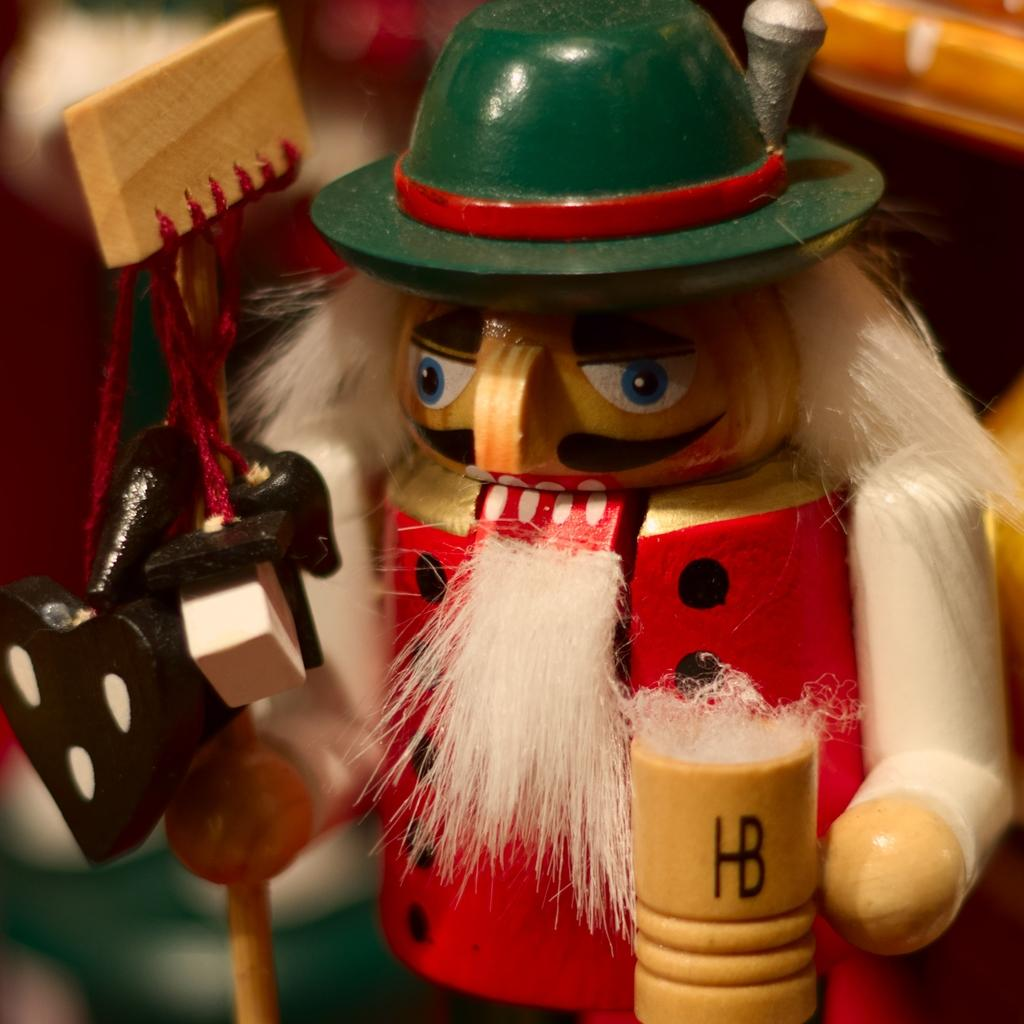Hat: (308, 0, 888, 307)
